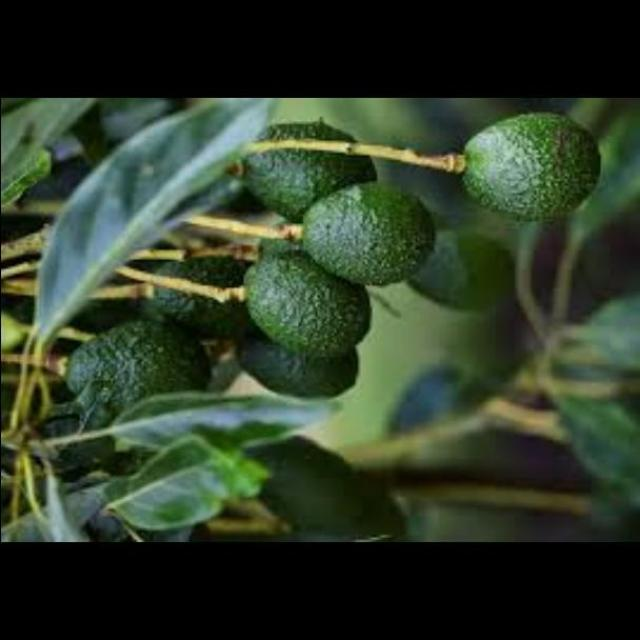Avocado: (38, 318, 220, 449), (226, 121, 394, 247), (460, 120, 618, 236), (287, 172, 435, 295), (234, 244, 370, 345), (128, 245, 240, 336)
